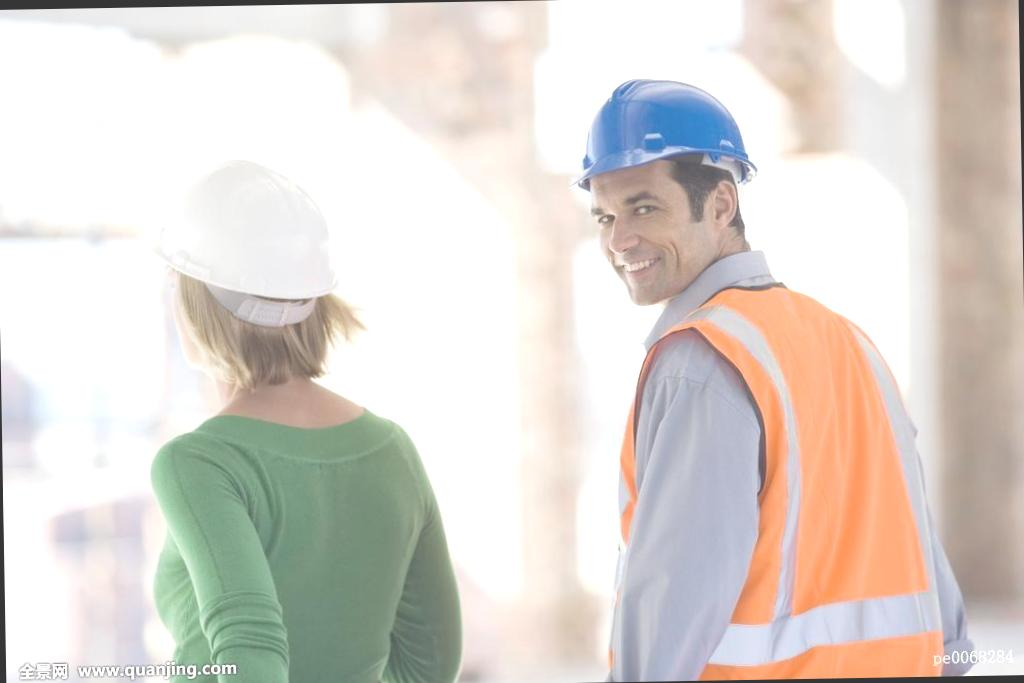helmet: (130, 148, 348, 328), (548, 71, 778, 202)
no_vest: (140, 375, 459, 683)
person: (546, 60, 983, 673), (116, 141, 478, 669)
